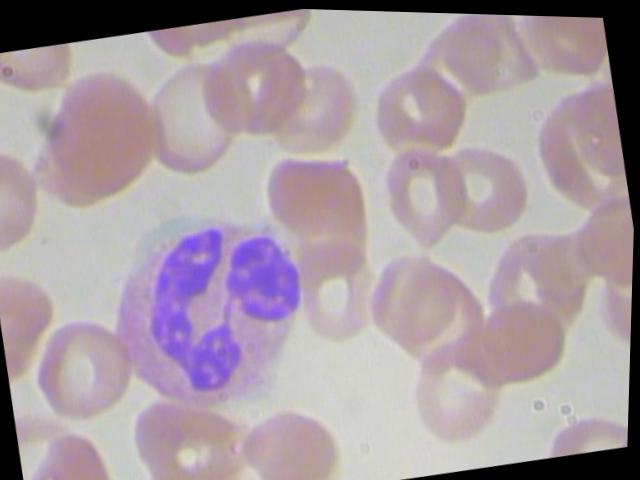Red Blood Cells: (27, 300, 147, 430), (187, 26, 319, 143), (363, 48, 486, 163), (261, 49, 384, 163), (290, 220, 395, 349), (405, 328, 520, 443), (374, 138, 479, 252), (434, 129, 538, 243), (232, 386, 350, 479), (0, 133, 56, 255)
White Blood Cells: (84, 190, 342, 424)
